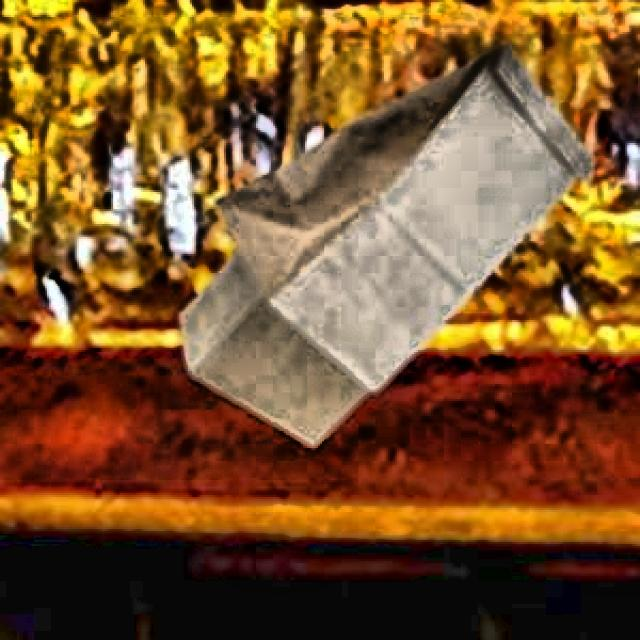Paper-bag: (160, 53, 592, 477)
